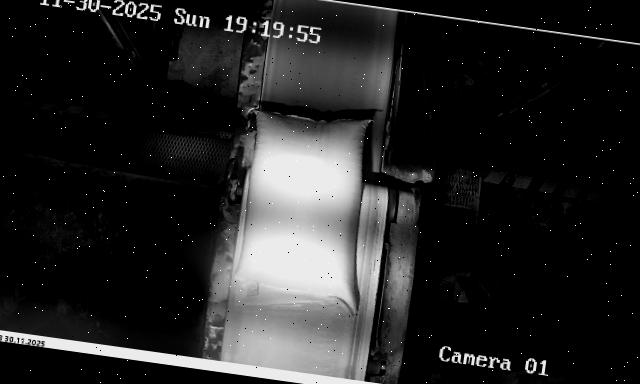bag: (228, 104, 384, 320)
